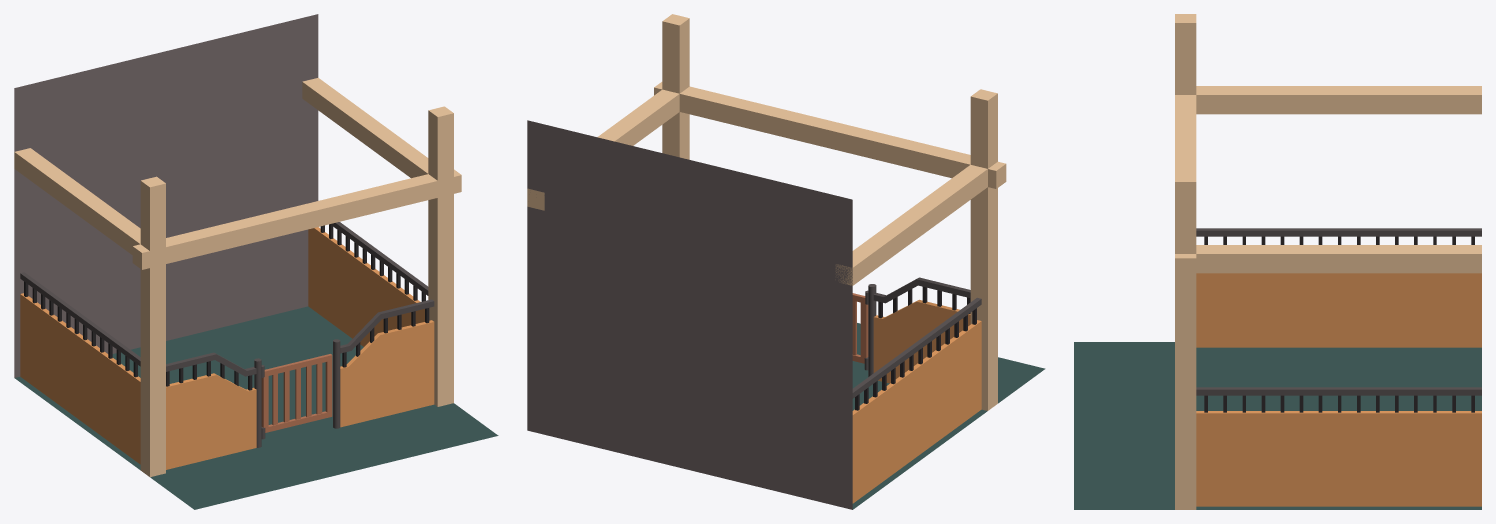
The model's file is Barn.fbx.
3 views of the same model, side by side, from view 1: azimuth 30°, elevation 25°; view 2: azimuth 150°, elevation 25°; view 3: azimuth 270°, elevation 25° (orthographic). The views are drawn at different scales.
Visible parts, largest first — view 1: Plane.002, Cube.008; view 2: Plane.002, Cube.008; view 3: Plane.002.
Boxes of the visible parts, x1,y1,x2,y2 form: Plane.002: [14, 14, 498, 509]; Cube.008: [261, 354, 332, 432]; Plane.002: [527, 14, 1045, 509]; Cube.008: [852, 293, 868, 363]; Plane.002: [1074, 14, 1481, 509].
Bounding box in the file's own units: 3.74 × 3.24 × 3.65.
